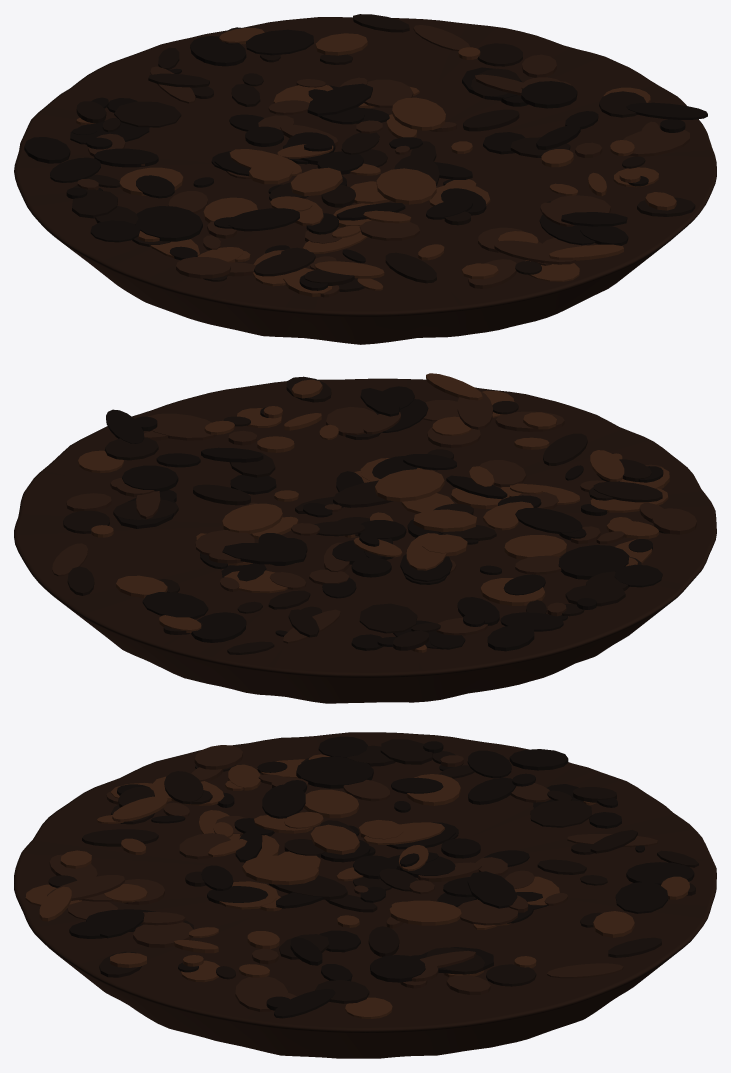
The model's file is Soil_Filling_Pot.obj.
3 views of the same model, one above another, from view 1: azimuth 30°, elevation 25°; view 2: azimuth 150°, elevation 25°; view 3: azimuth 270°, elevation 25° (orthographic).
Visible parts, largest first — view 1: SM_Soil_Filling, SM_Soiltextur_Fleck.053, SM_Soiltextur_Fleck.182, SM_Soiltextur_Fleck.186, SM_Soiltextur_Fleck.175, SM_Soiltextur_Fleck.146, SM_Soiltextur_Fleck.181, SM_Soiltextur_Fleck.162, SM_Soiltextur_Fleck.085, SM_Soiltextur_Fleck.072, SM_Soiltextur_Fleck.062, SM_Soiltextur_Fleck.155 (+57 smaller); view 2: SM_Soil_Filling, SM_Soiltextur_Fleck.053, SM_Soiltextur_Fleck.182, SM_Soiltextur_Fleck.146, SM_Soiltextur_Fleck.186, SM_Soiltextur_Fleck.175, SM_Soiltextur_Fleck.181, SM_Soiltextur_Fleck.162, SM_Soiltextur_Fleck.085, SM_Soiltextur_Fleck.048, SM_Soiltextur_Fleck.072, SM_Soiltextur_Fleck.155 (+68 smaller); view 3: SM_Soil_Filling, SM_Soiltextur_Fleck.053, SM_Soiltextur_Fleck.182, SM_Soiltextur_Fleck.186, SM_Soiltextur_Fleck.175, SM_Soiltextur_Fleck.181, SM_Soiltextur_Fleck.146, SM_Soiltextur_Fleck.162, SM_Soiltextur_Fleck.048, SM_Soiltextur_Fleck.062, SM_Soiltextur_Fleck.072, SM_Soiltextur_Fleck.173 (+65 smaller).
Part boxes in pixels (x1,y1,x2,y2): SM_Soil_Filling: (14,17,716,344); SM_Soiltextur_Fleck.053: (135,206,202,241); SM_Soiltextur_Fleck.182: (376,168,436,204); SM_Soiltextur_Fleck.186: (392,97,445,130); SM_Soiltextur_Fleck.175: (114,101,181,127); SM_Soiltextur_Fleck.146: (307,83,372,116); SM_Soiltextur_Fleck.181: (246,29,313,55); SM_Soiltextur_Fleck.162: (623,128,689,156); SM_Soiltextur_Fleck.085: (190,36,246,66); SM_Soiltextur_Fleck.072: (228,208,299,231); SM_Soiltextur_Fleck.062: (521,81,577,108); SM_Soiltextur_Fleck.155: (290,167,342,196); SM_Soil_Filling: (14,378,716,703); SM_Soiltextur_Fleck.053: (558,545,629,579); SM_Soiltextur_Fleck.182: (375,469,444,501); SM_Soiltextur_Fleck.146: (222,543,306,564); SM_Soiltextur_Fleck.186: (222,503,282,533); SM_Soiltextur_Fleck.175: (359,603,417,633); SM_Soiltextur_Fleck.181: (142,592,208,618); SM_Soiltextur_Fleck.162: (148,413,216,440); SM_Soiltextur_Fleck.085: (191,612,246,642); SM_Soiltextur_Fleck.048: (504,535,566,559); SM_Soiltextur_Fleck.072: (515,508,582,533); SM_Soiltextur_Fleck.155: (413,509,476,531); SM_Soil_Filling: (14,732,716,1058); SM_Soiltextur_Fleck.053: (296,756,373,788); SM_Soiltextur_Fleck.182: (242,855,318,884); SM_Soiltextur_Fleck.186: (389,900,461,925); SM_Soiltextur_Fleck.175: (530,800,592,827); SM_Soiltextur_Fleck.181: (615,881,668,913); SM_Soiltextur_Fleck.146: (467,871,517,908); SM_Soiltextur_Fleck.162: (235,976,287,1011); SM_Soiltextur_Fleck.048: (303,789,358,818); SM_Soiltextur_Fleck.062: (370,955,425,982); SM_Soiltextur_Fleck.072: (262,784,305,818); SM_Soiltextur_Fleck.173: (133,922,193,947).
Size of the model in its own units: 1.28 by 0.1422 by 1.28.
